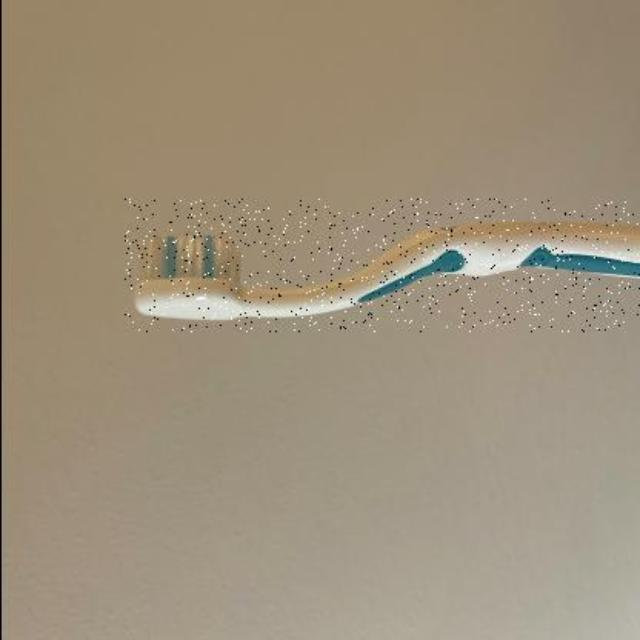toothbrush: (124, 198, 640, 332)
